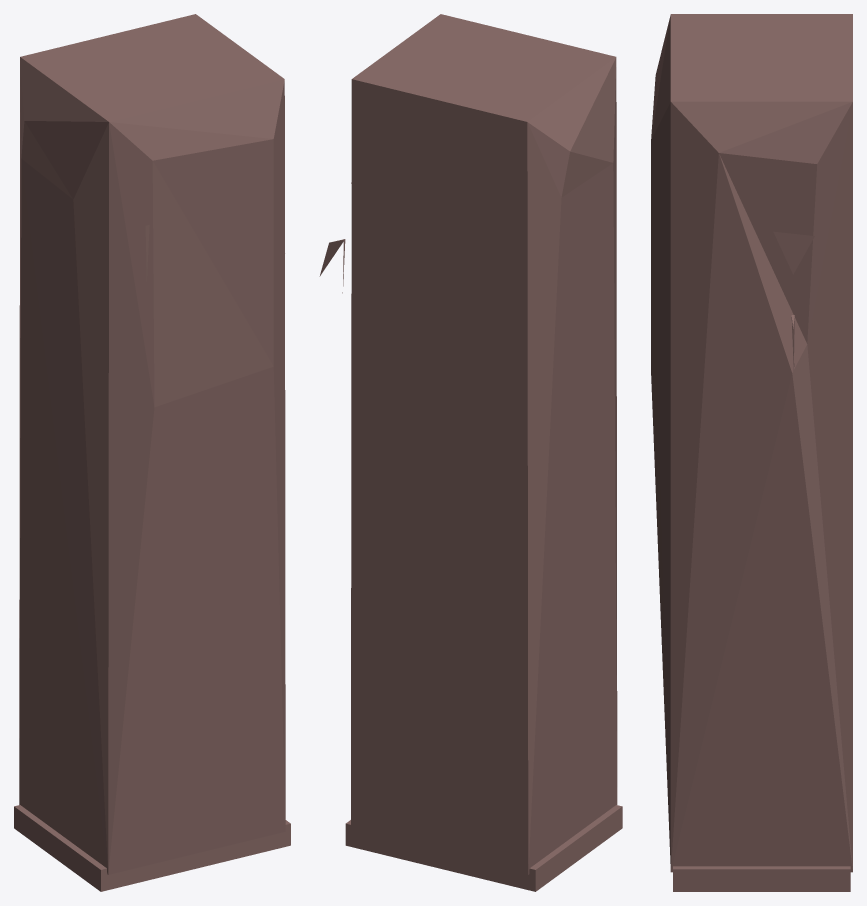
The model's file is gas-pump.lod2.glb.
The picture shows the model from 3 angles, left to right: view 1: azimuth 30°, elevation 25°; view 2: azimuth 150°, elevation 25°; view 3: azimuth 270°, elevation 25°; orthographic projection. The views are drawn at different scales.
Visible parts, largest first — view 1: Vintage_Gas_Dispenser_GasDispenser_Main_0; view 2: Vintage_Gas_Dispenser_GasDispenser_Main_0; view 3: Vintage_Gas_Dispenser_GasDispenser_Main_0.
Part boxes in pixels (x1=…): Vintage_Gas_Dispenser_GasDispenser_Main_0: x1=14, y1=14, x2=290, y2=891; Vintage_Gas_Dispenser_GasDispenser_Main_0: x1=319, y1=14, x2=622, y2=891; Vintage_Gas_Dispenser_GasDispenser_Main_0: x1=651, y1=14, x2=852, y2=891.
Size of the model in its own units: 0.5211 by 1.5 by 0.3482.
